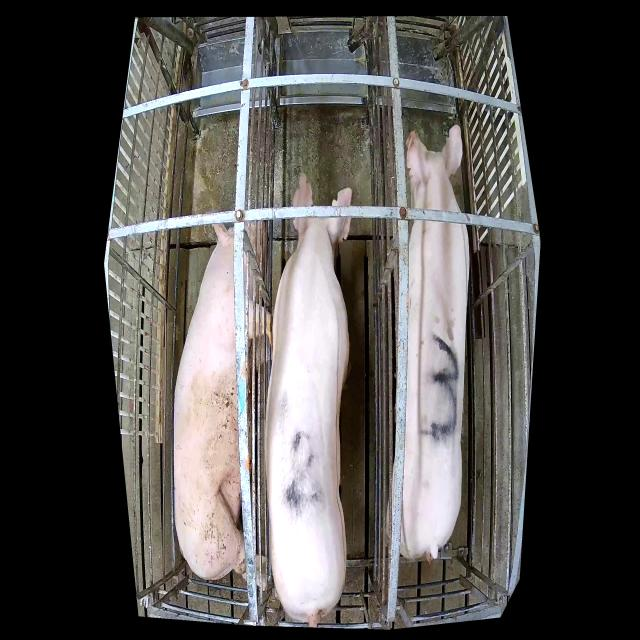pig: (265, 173, 352, 626), (381, 125, 470, 563), (174, 210, 272, 592)
